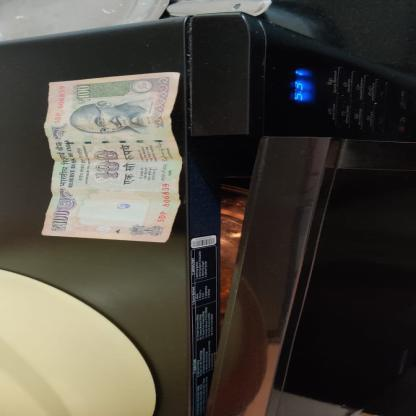Old100Front: (41, 72, 184, 243)
